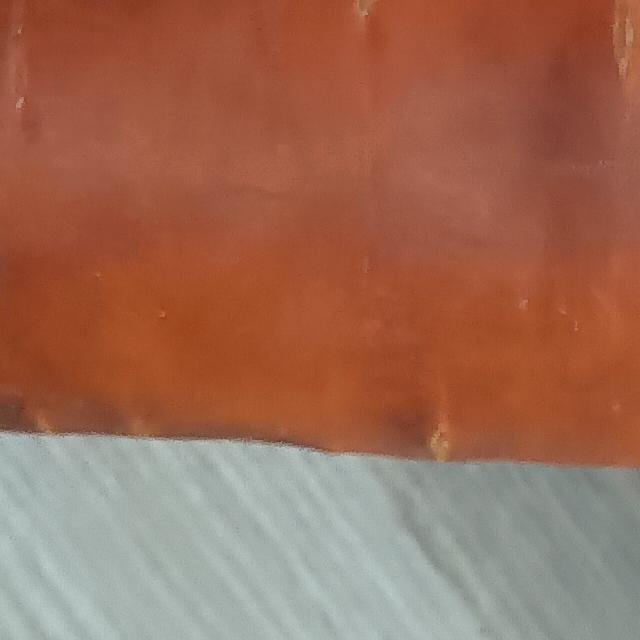carrot: (1, 1, 640, 511)
